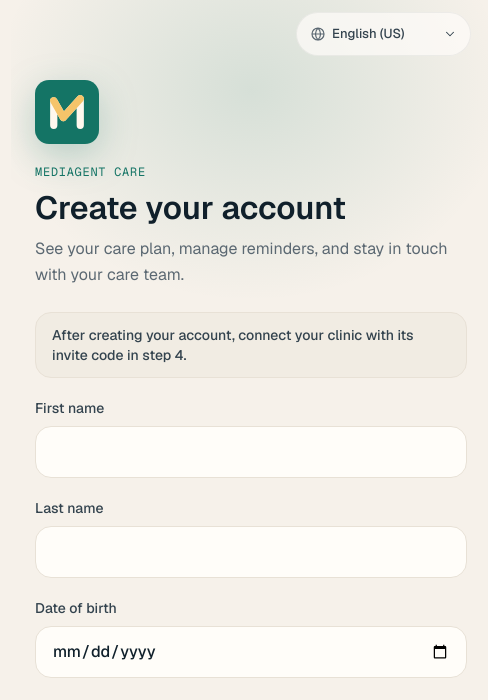
Scenario: Patient signup page › classifies only the structured signup duplicate detail: VALIDATION_ERROR, Signup failed — email is already registered
The width and height of the screenshot is (488, 700).
Type "Synthetic" into the field labelled "First name" at x=251, y=452, box [35, 426, 467, 478]
Type "Patient" into the field labelled "Last name" at x=251, y=552, box [35, 526, 467, 578]
Type "1990-01-01" into the date field labelled "Date of birth" at x=251, y=652, box [35, 626, 467, 678]
(page scrolled)
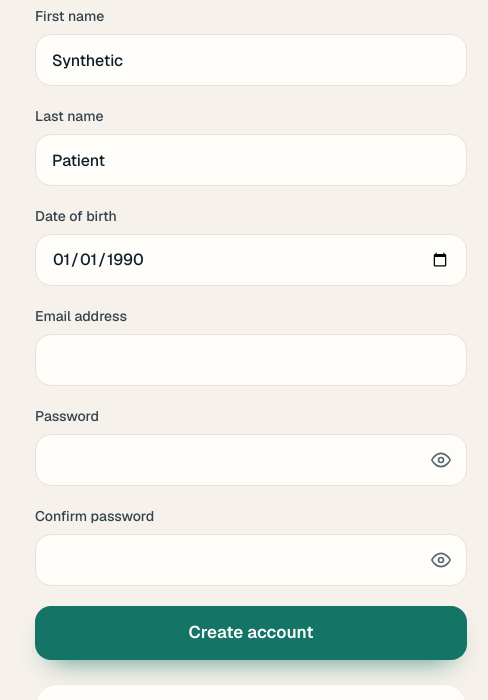
Type "patient@example.com" into the field labelled "Email address" at x=251, y=360, box [35, 334, 467, 386]
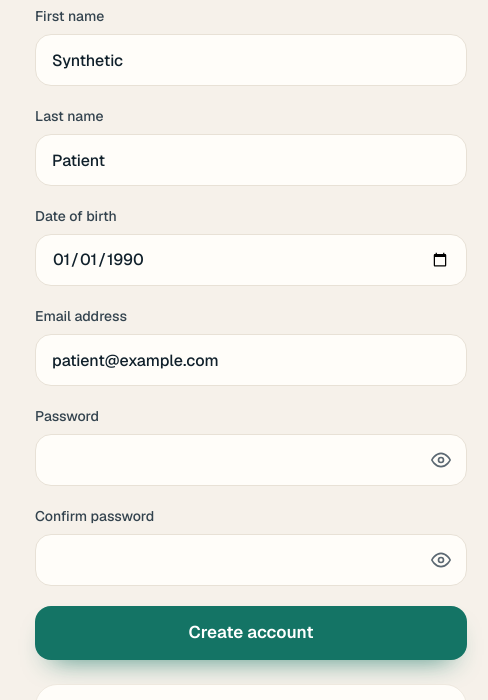
Type "SyntheticPass123!" into the password field labelled "Password" at x=251, y=460, box [35, 434, 467, 486]
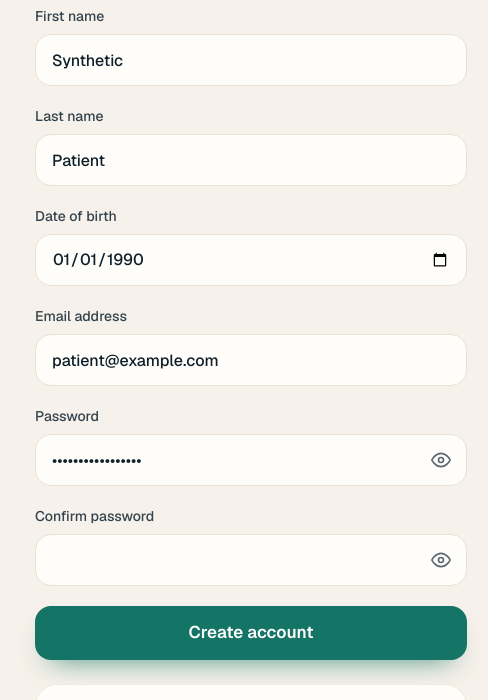
Type "SyntheticPass123!" into the password field labelled "Confirm password" at x=251, y=560, box [35, 534, 467, 586]
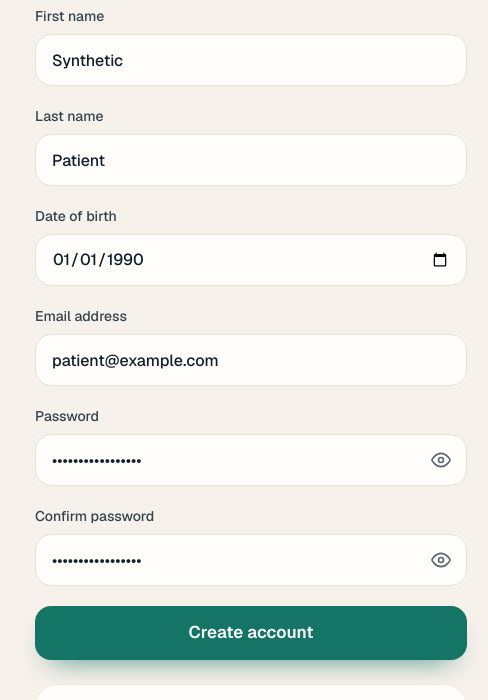
Click the button "Create account" at x=251, y=633, box [35, 606, 467, 660]
(page scrolled)
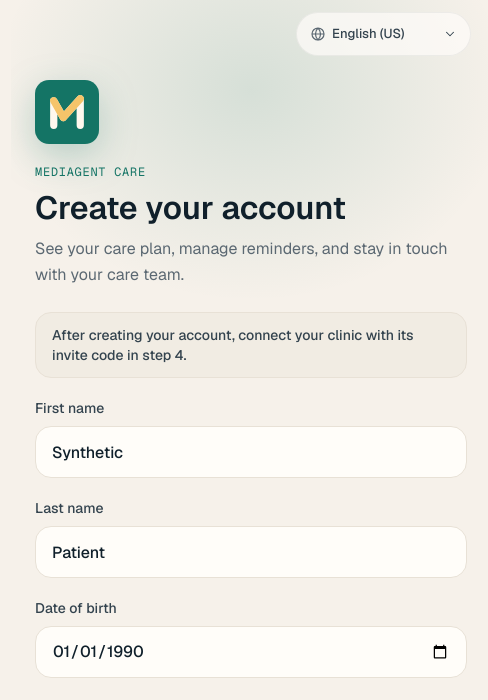
Select "Español (México)" in the dropdown named "Language" at x=384, y=34, box [296, 12, 471, 56]
(page scrolled)
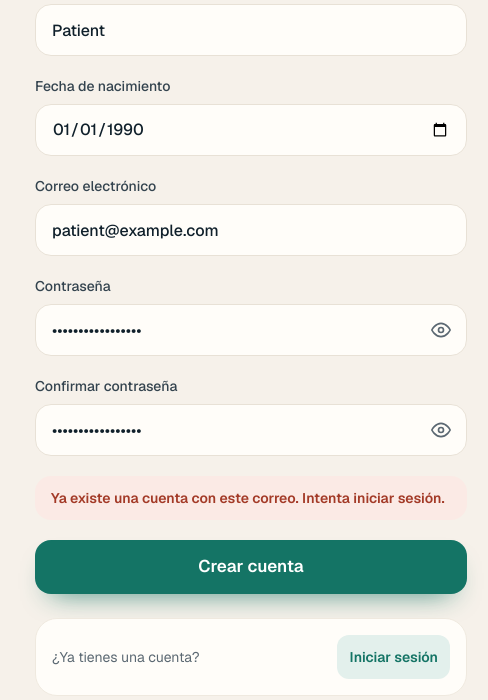
Expected: the message shows "Ya existe una cuenta con este correo", [51, 489, 445, 507]
